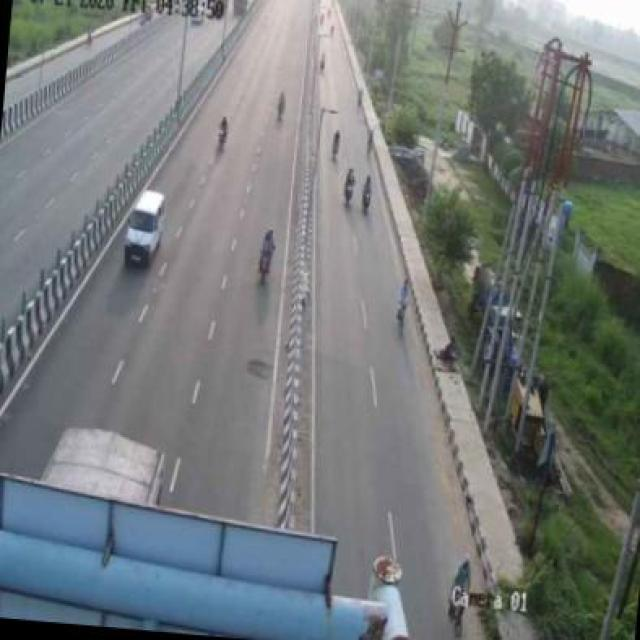car: (114, 187, 177, 271)
